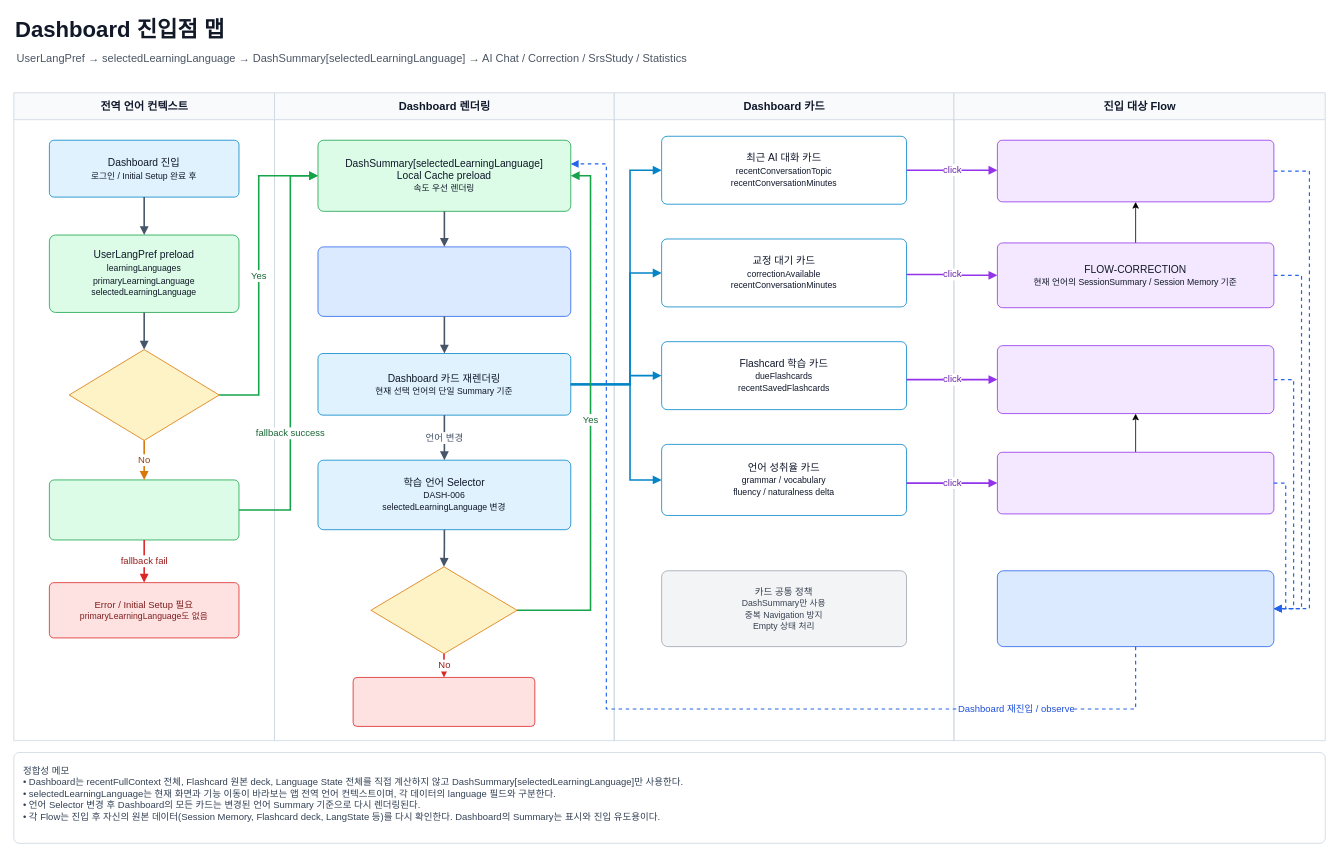
This 1339x857 diagram has some shape labels left out. Here are the shapes that lost their labels. From the top down, the centre of each, then its label:
At point (1135, 170): "FLOW-AI-CHAT 현재 선택 언어로 대화 시작 / 재진입".
At point (444, 281): "Firebase background sync 변경사항 있으면 UI 갱신 실패 시 Local Cache 유지".
At point (143, 394): "selectedLearningLanguage 있음?".
At point (1135, 379): "FLOW-SRS SrsStudyScreen 현재 언어의 due deck 조회".
At point (1135, 482): "Statistics 현재 언어의 성장 지표 상세 확인".
At point (144, 509): "fallback primaryLearningLanguage 사용 복구 저장 시도".
At point (443, 610): "언어 변경 저장 성공?".
At point (1135, 608): "Flow 완료 후 Summary 갱신 AI Chat 종료 / Correction 완료 SRS 학습 완료 / LangState 업데이트".
At point (443, 701): "이전 언어 유지 Snackbar 표시".
